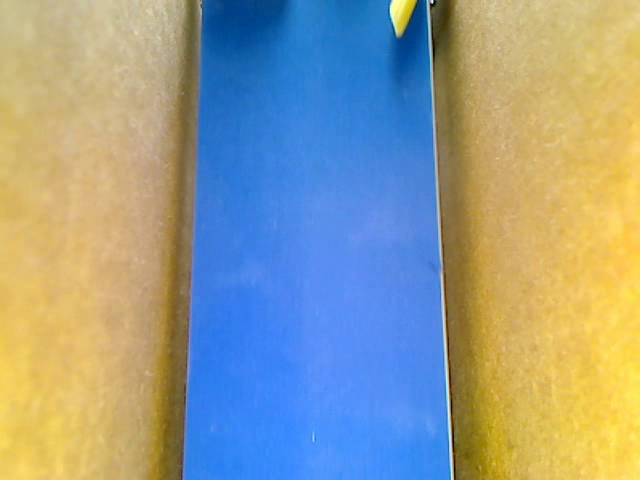penne: (388, 1, 417, 39)
